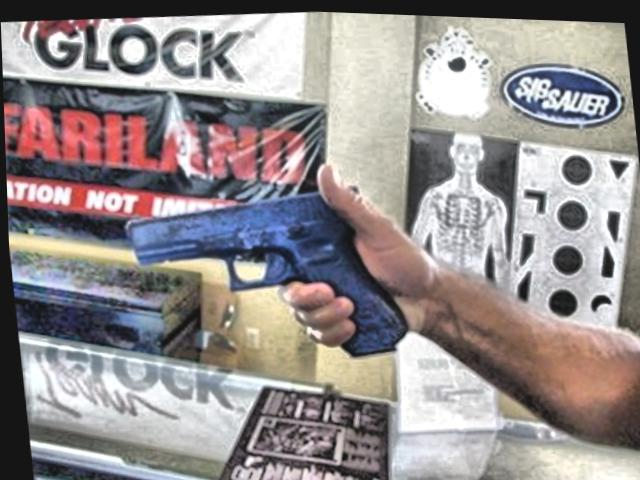pistol: (114, 181, 403, 371)
